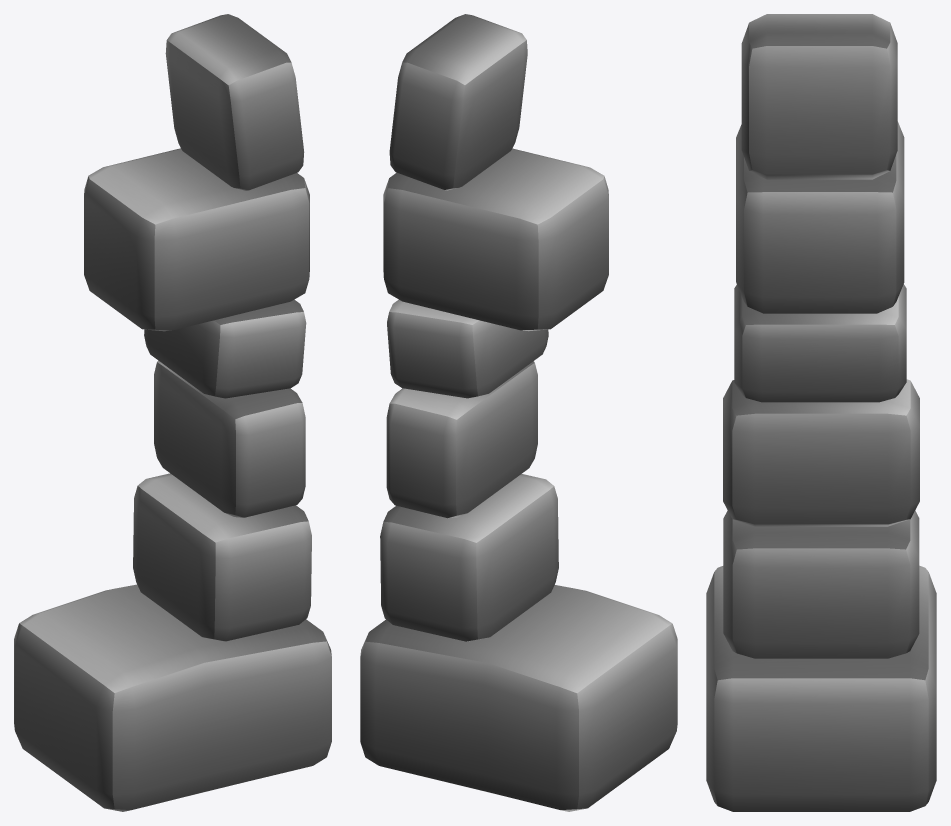
Rendered from door_frame_begin 3.obj.
The picture shows the model from 3 angles, left to right: view 1: azimuth 30°, elevation 25°; view 2: azimuth 150°, elevation 25°; view 3: azimuth 270°, elevation 25°; orthographic projection. The views are drawn at different scales.
Parts seen in each view (by area): view 1: stone7; view 2: stone7; view 3: stone7.
Boxes of the visible parts, x1,y1,x2,y2 form: stone7: [14, 14, 331, 811]; stone7: [360, 14, 677, 811]; stone7: [706, 14, 936, 811].
Bounding box in the file's own units: 0.2333 × 0.6763 × 0.1824.
Materials: 1 (1 with a texture image).
